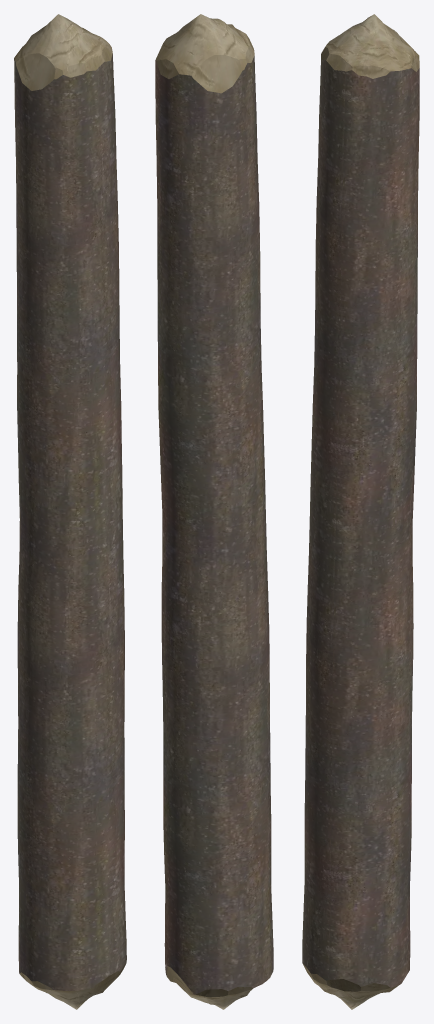
3 views of the same model, side by side, from view 1: azimuth 90°, elevation 25°; view 2: azimuth 150°, elevation 25°; view 3: azimuth 330°, elevation 25° (orthographic).
Parts seen in each view (by area): view 1: SM_BM_Ash_Tree_03_half_top_LOD0; view 2: SM_BM_Ash_Tree_03_half_top_LOD0; view 3: SM_BM_Ash_Tree_03_half_top_LOD0.
Boxes of the visible parts, x1=… form: SM_BM_Ash_Tree_03_half_top_LOD0: x1=14, y1=14, x2=126, y2=1009; SM_BM_Ash_Tree_03_half_top_LOD0: x1=155, y1=14, x2=273, y2=1009; SM_BM_Ash_Tree_03_half_top_LOD0: x1=302, y1=14, x2=419, y2=1009.
Size of the model in its own units: 0.4881 by 4.67 by 0.4827.
Materials: 1 (1 with a texture image).
